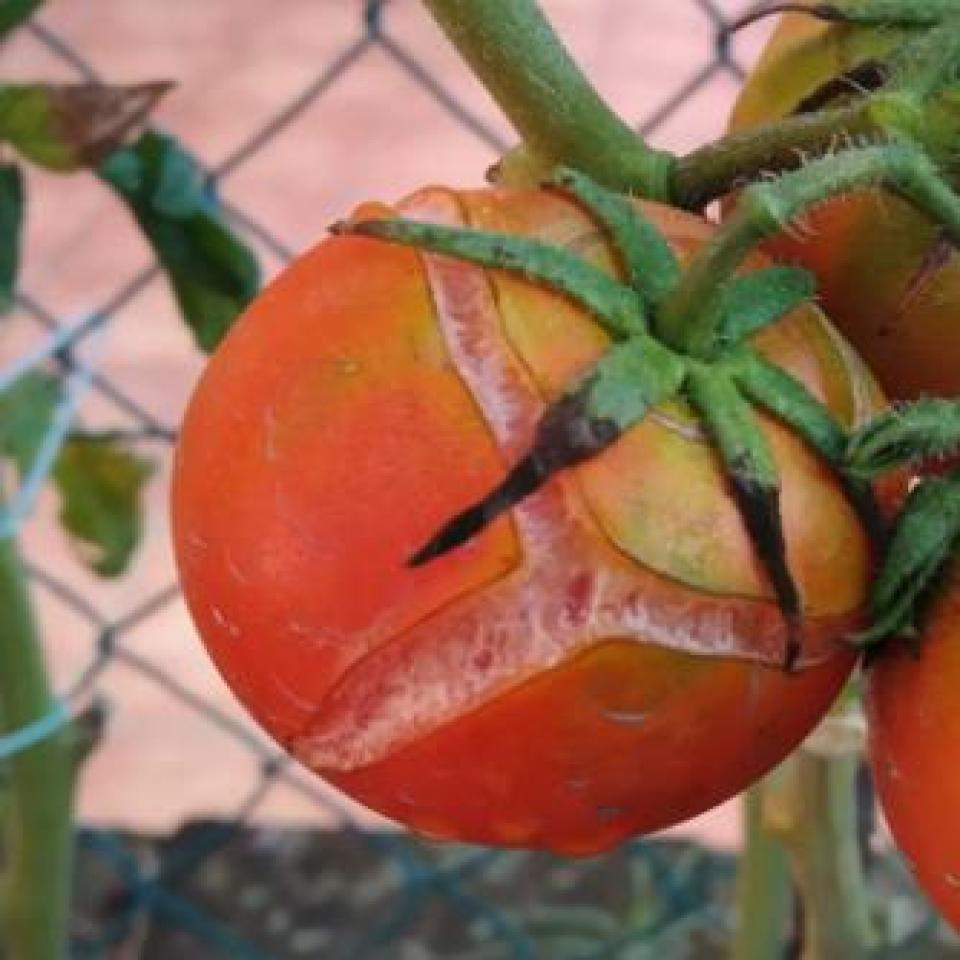Cracking: (266, 177, 860, 786)
